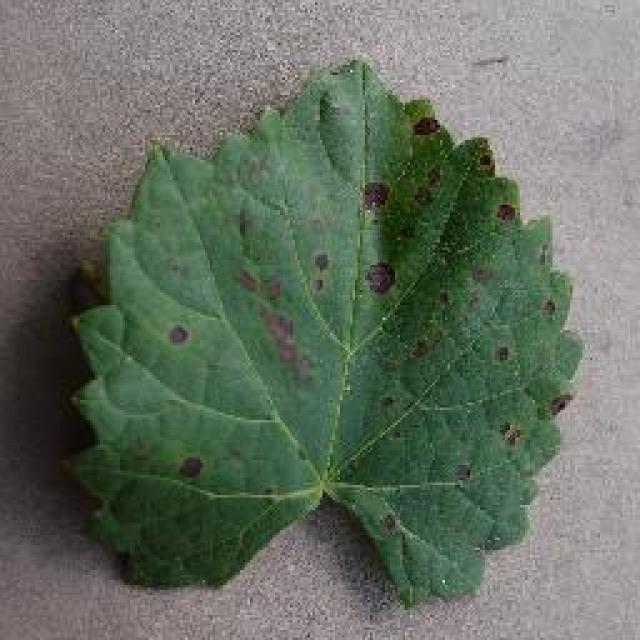Grape___Black_rot: (54, 49, 593, 614)
